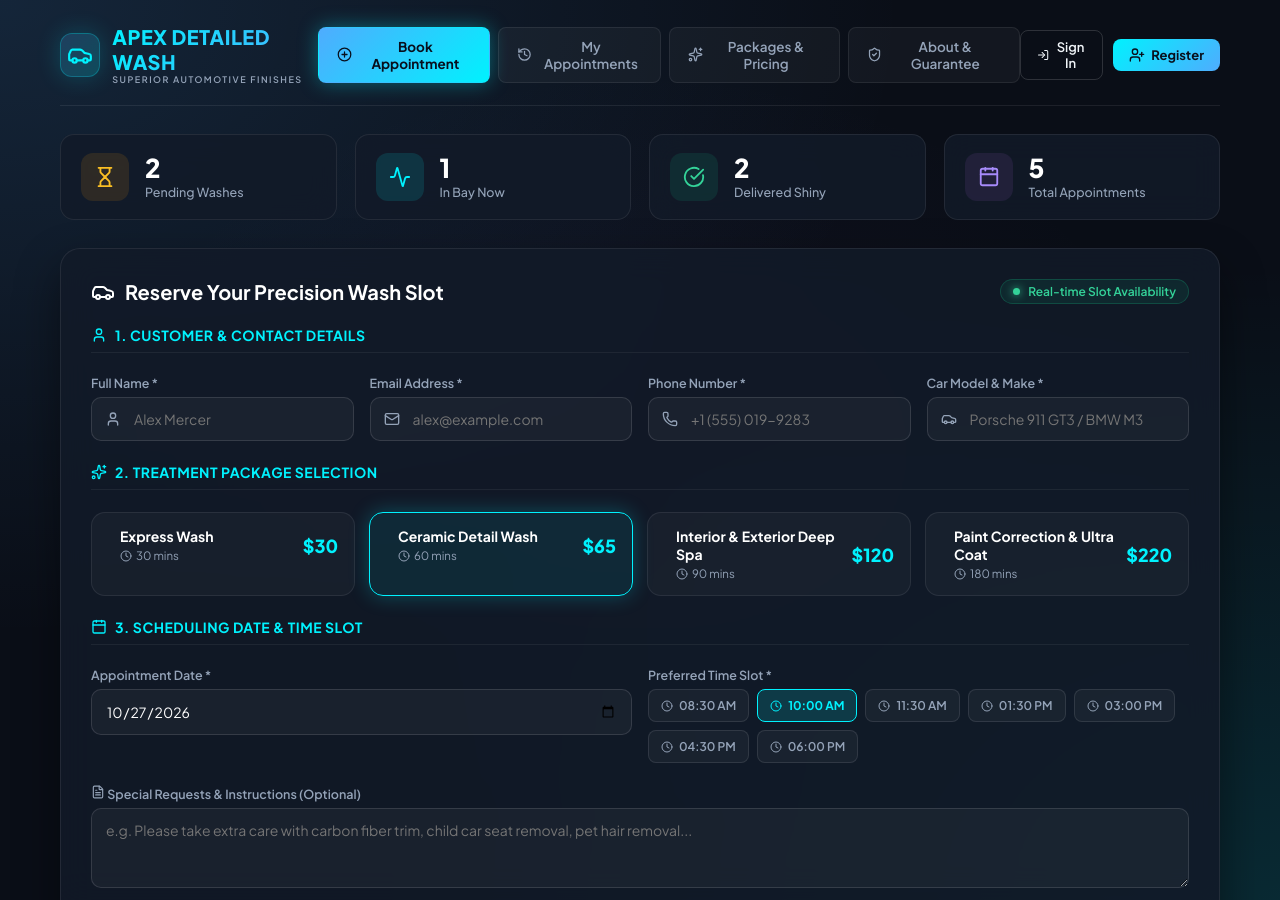
Test: Apex Detailed Wash - Frontend App Tests › switches between tabs accurately
The width and height of the screenshot is (1280, 900).
Click the button "Packages & Pricing" at point(754, 54), box [669,26,840,82]
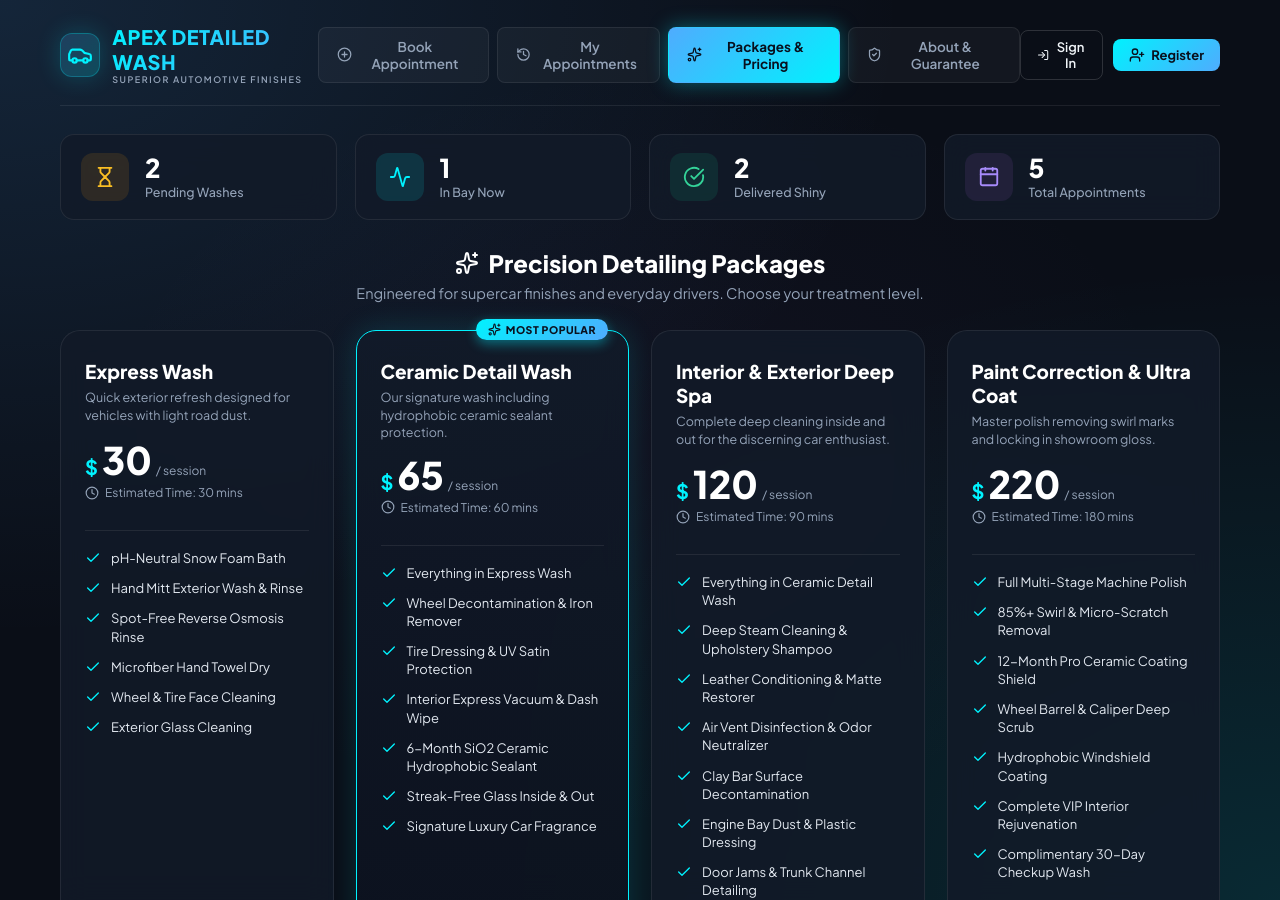
Now the heading "Precision Detailing Packages" is shown, box [454,248,825,278]
Now the heading "Ceramic Detail Wash" is shown, box [380,359,604,383]
Now the heading "Interior & Exterior Deep Spa" is shown, box [676,359,900,407]
